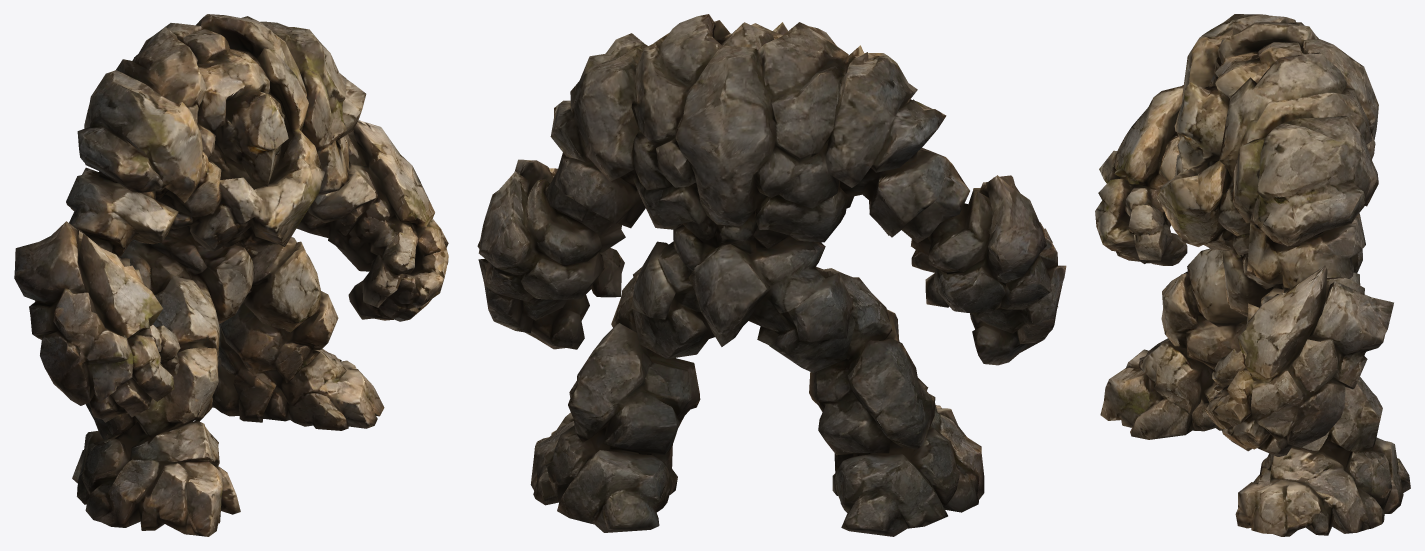
File: golem-pedra.glb
3 renders of one model, left to right at view 1: azimuth 30°, elevation 25°; view 2: azimuth 150°, elevation 25°; view 3: azimuth 270°, elevation 25°, orthographic. The views are drawn at different scales.
Visible parts, largest first — view 1: tripo_node_7605af6d-cb26-49f6-937d-968c25540d89; view 2: tripo_node_7605af6d-cb26-49f6-937d-968c25540d89; view 3: tripo_node_7605af6d-cb26-49f6-937d-968c25540d89.
Part boxes in pixels (box(x1,y1,x2,y2)): tripo_node_7605af6d-cb26-49f6-937d-968c25540d89: box(14, 14, 448, 536); tripo_node_7605af6d-cb26-49f6-937d-968c25540d89: box(477, 14, 1066, 536); tripo_node_7605af6d-cb26-49f6-937d-968c25540d89: box(1095, 14, 1410, 536).
Size of the model in its own units: 1 by 0.8898 by 0.6072.
Materials: 1 (1 with a texture image).
